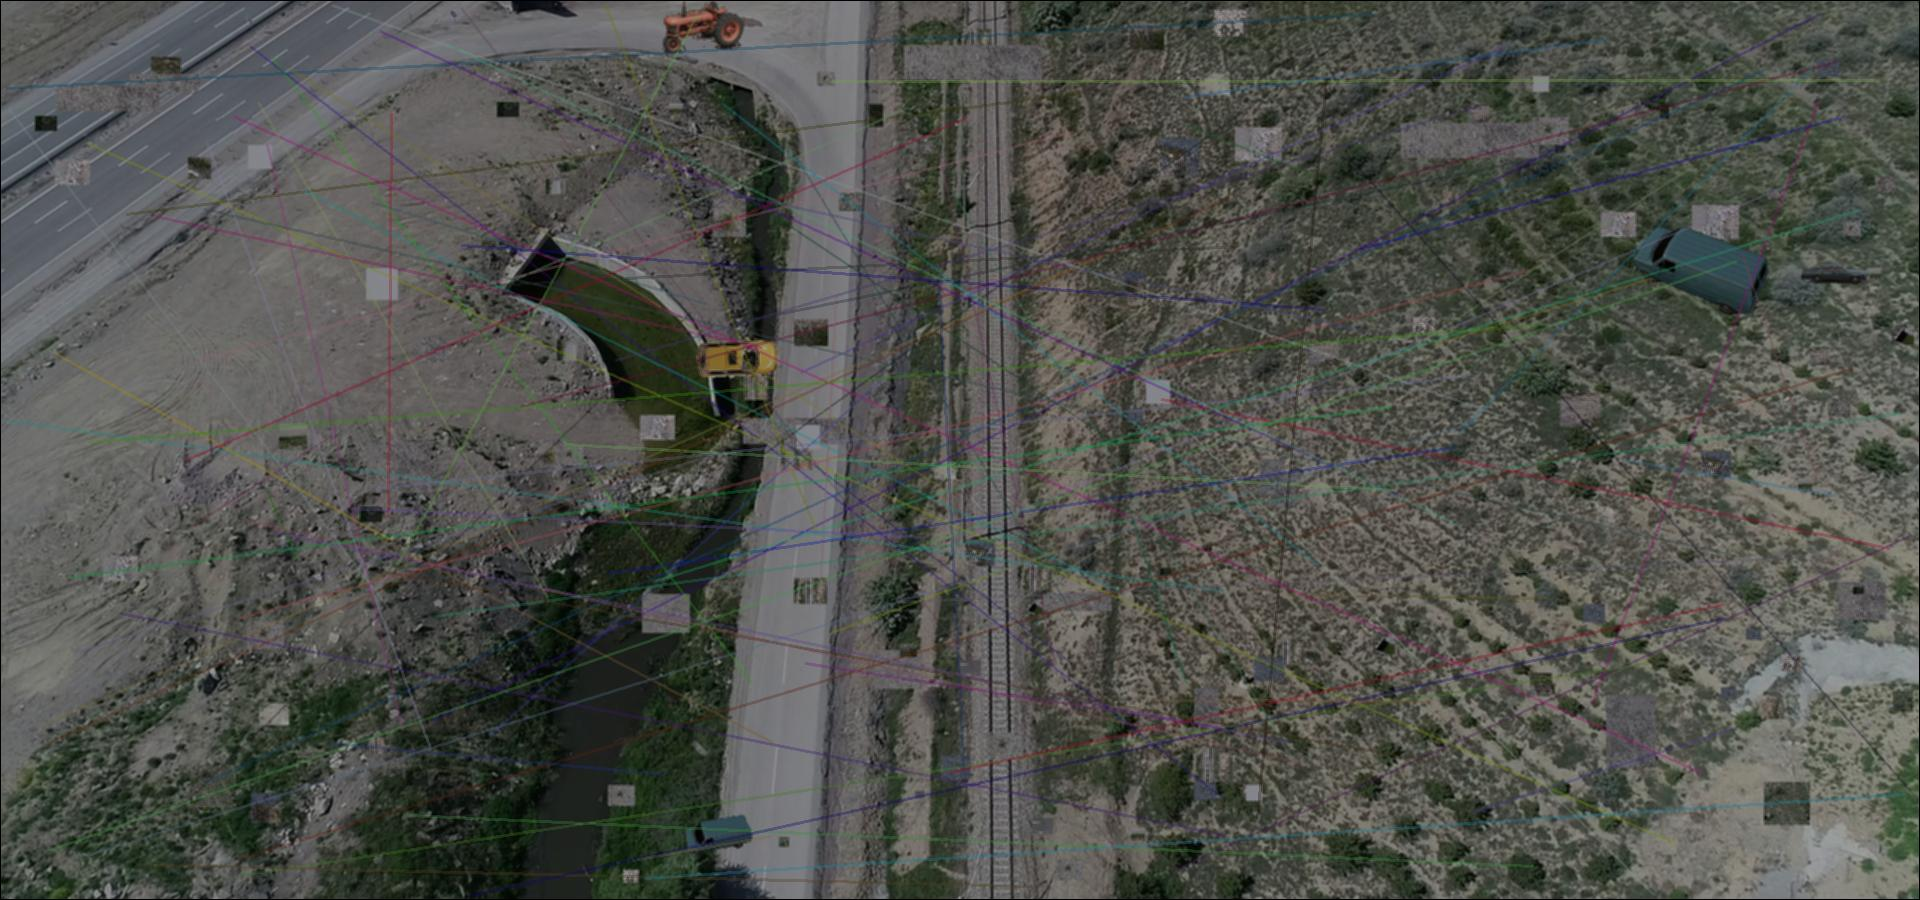arac: (1633, 225, 1771, 315), (662, 1, 744, 54), (697, 334, 779, 382), (684, 814, 752, 857), (1798, 262, 1871, 285)
